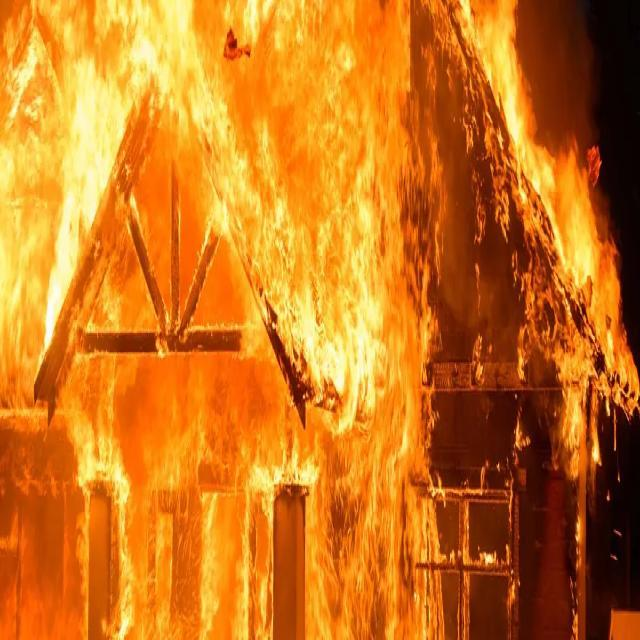fire: (4, 0, 430, 633), (428, 89, 634, 638), (473, 9, 639, 461)
